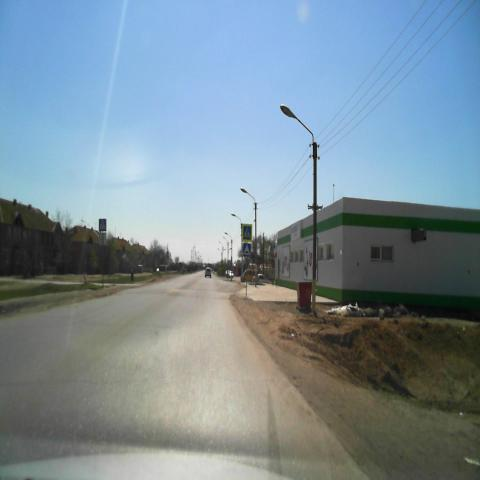5_19_1: (241, 223, 253, 242)
5_20: (242, 243, 252, 256)
